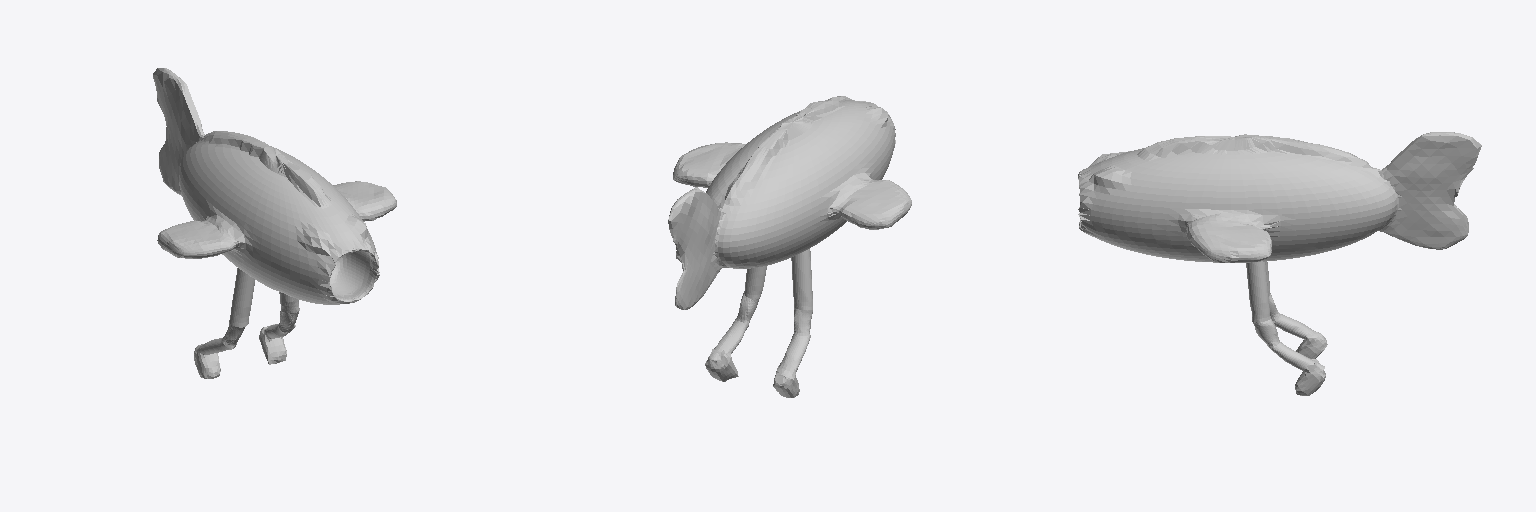
Rendered from fishman.obj.
The picture shows the model from 3 angles: view 1: azimuth 30°, elevation 25°; view 2: azimuth 150°, elevation 25°; view 3: azimuth 270°, elevation 25°; orthographic projection.
Parts seen in each view (by area): view 1: Sphere; view 2: Sphere; view 3: Sphere.
Boxes of the visible parts, box(x1,y1,x2,y2) form: Sphere: box(153, 68, 396, 378); Sphere: box(668, 96, 911, 397); Sphere: box(1078, 132, 1481, 395).
Bounding box in the file's own units: 4.18 × 4.38 × 6.52.